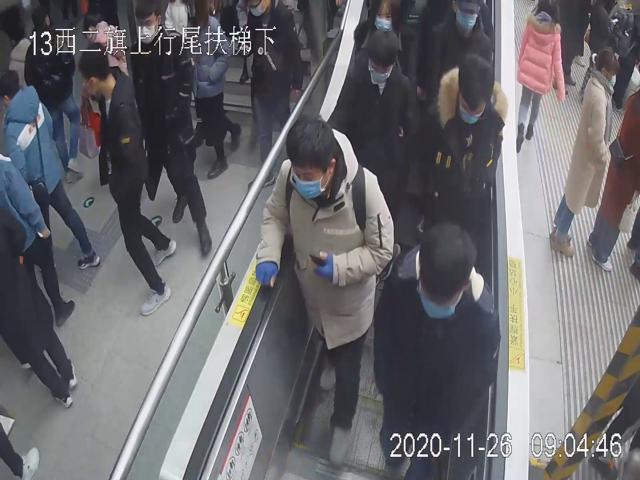person: (253, 113, 393, 460), (372, 214, 499, 480), (77, 46, 179, 316), (127, 2, 216, 258), (334, 28, 418, 224), (547, 40, 620, 260), (419, 54, 505, 236), (414, 0, 499, 71)
